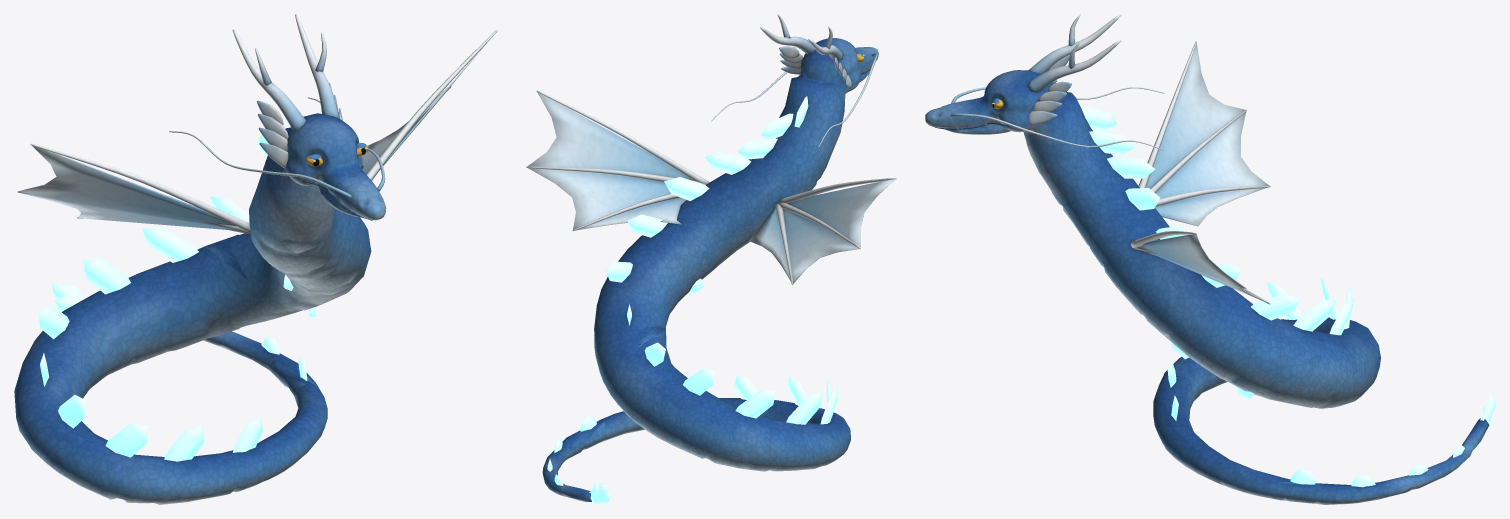
Rendered from frostwyrm.fbx.
3 views of the same model, side by side, from view 1: azimuth 30°, elevation 25°; view 2: azimuth 150°, elevation 25°; view 3: azimuth 270°, elevation 25° (orthographic). The views are drawn at different scales.
Visible parts, largest first — view 1: FrostWyrm_Body, FrostWyrm_GLOW; view 2: FrostWyrm_Body, FrostWyrm_GLOW; view 3: FrostWyrm_Body, FrostWyrm_GLOW.
Part boxes in pixels (x1,y1,x2,y2): FrostWyrm_Body: [14, 14, 497, 504]; FrostWyrm_GLOW: [38, 134, 316, 461]; FrostWyrm_Body: [526, 14, 896, 501]; FrostWyrm_GLOW: [547, 96, 838, 504]; FrostWyrm_Body: [925, 14, 1489, 504]; FrostWyrm_GLOW: [1081, 106, 1495, 487].
Bounding box in the file's own units: 2.84 × 2.85 × 3.56.
Materials: 3 (1 with a texture image).
